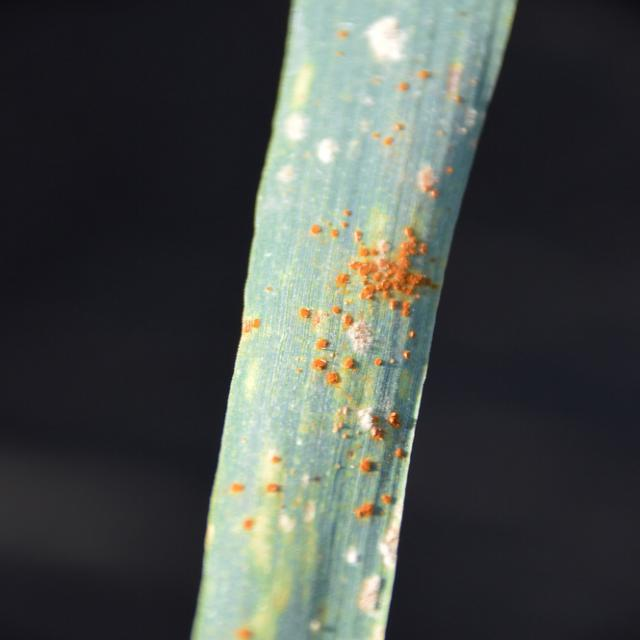wheat-powdery-mildew: (292, 207, 443, 523), (442, 62, 479, 112), (410, 166, 455, 203), (364, 120, 410, 150), (399, 68, 442, 97), (258, 479, 292, 500), (216, 480, 249, 501), (435, 157, 463, 180), (233, 519, 265, 536), (241, 317, 262, 342), (230, 625, 264, 640), (261, 448, 287, 466), (338, 28, 356, 53)
